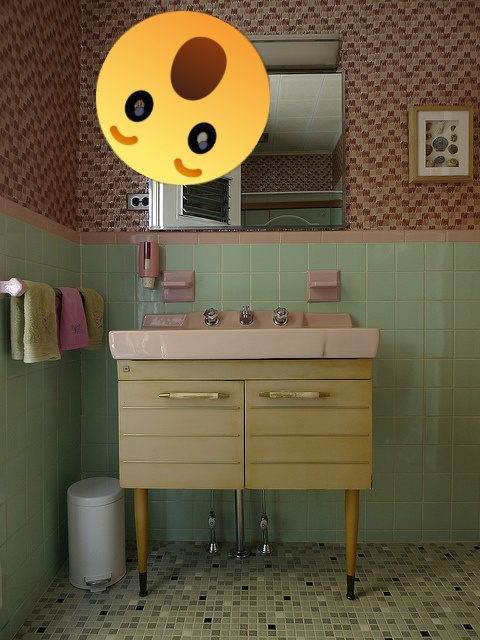wow: (96, 11, 270, 185)
